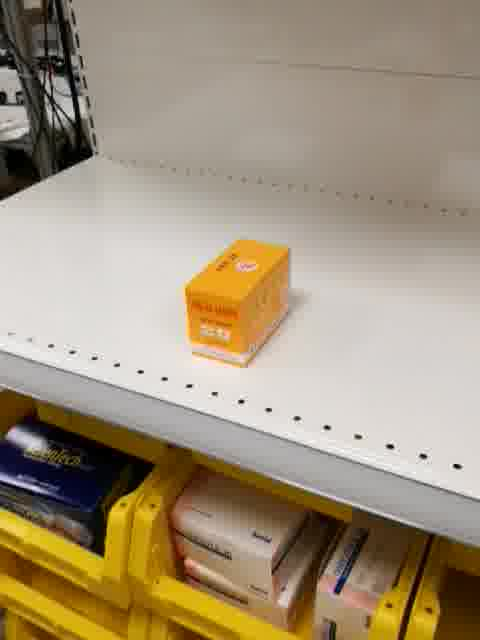jasminetea: (185, 235, 293, 371)
